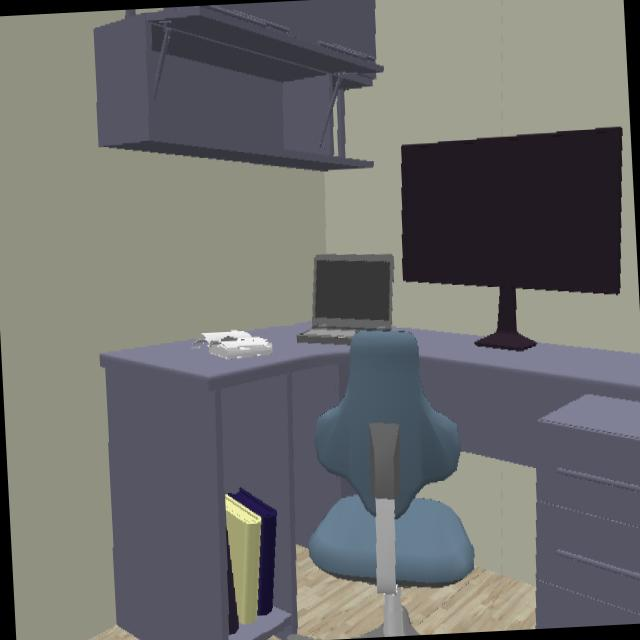book: (225, 489, 278, 634), (195, 331, 272, 359)
chair: (309, 331, 473, 634)
laptop: (298, 256, 393, 344)
monitor: (403, 128, 622, 350)
shelf: (94, 0, 383, 170)
table: (100, 325, 354, 640), (415, 331, 640, 624)
